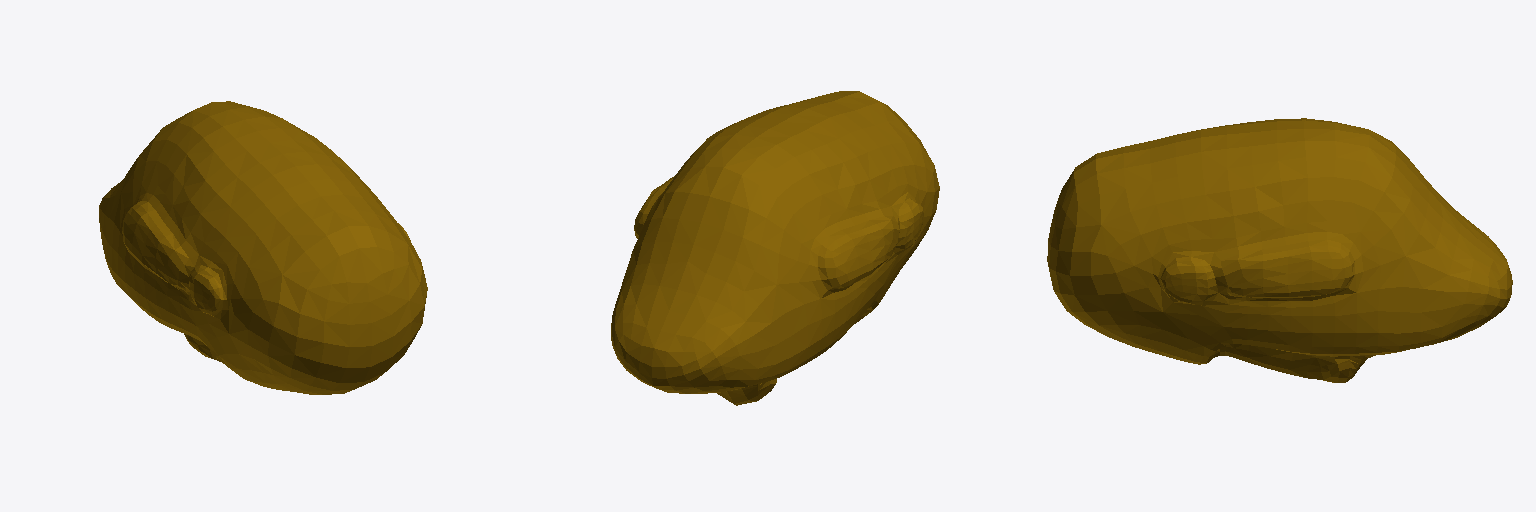
The model's file is moai.obj.
3 renders of one model, left to right at view 1: azimuth 30°, elevation 25°; view 2: azimuth 150°, elevation 25°; view 3: azimuth 270°, elevation 25°, orthographic.
Visible parts, largest first — view 1: Group703; view 2: Group703; view 3: Group703.
Boxes of the visible parts, x1,y1,x2,y2 form: Group703: [99, 101, 427, 394]; Group703: [611, 91, 939, 405]; Group703: [1047, 118, 1512, 382].
Size of the model in its own units: 0.9228 by 1.02 by 1.7.